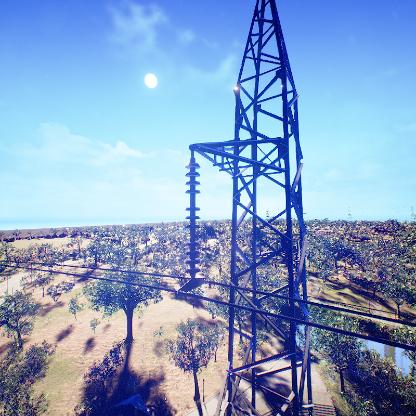insulator: (183, 161, 202, 276)
